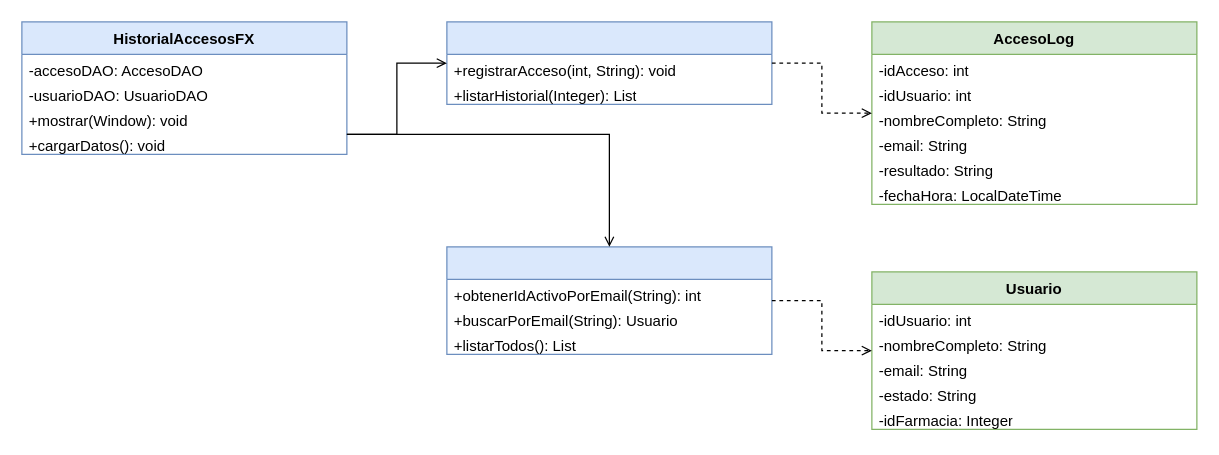
This 1219x455 diagram has some shape labels left out. The shapes that lost their labels are listed below. From the top down, each one's box as (x1, y1, x2, y2) in pixels, then its label:
(446, 21, 772, 104): AccesoDAO
(446, 246, 772, 354): UsuarioDAO
